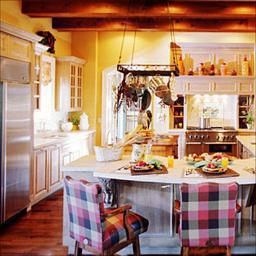Electrodomestico: (2, 59, 30, 212)
